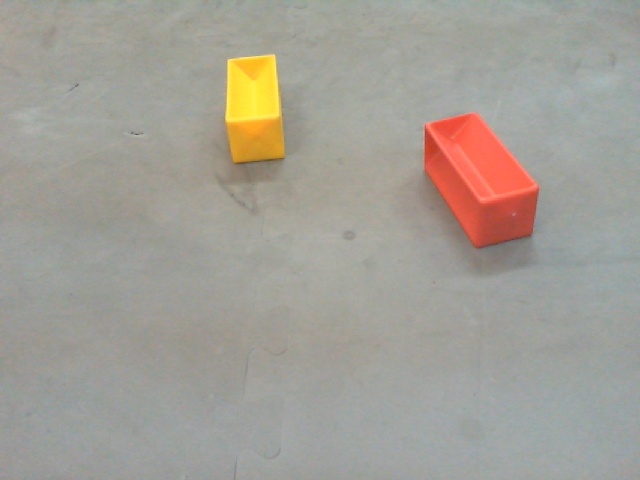RedSample: (422, 112, 540, 248)
YellowSample: (222, 52, 287, 167)
